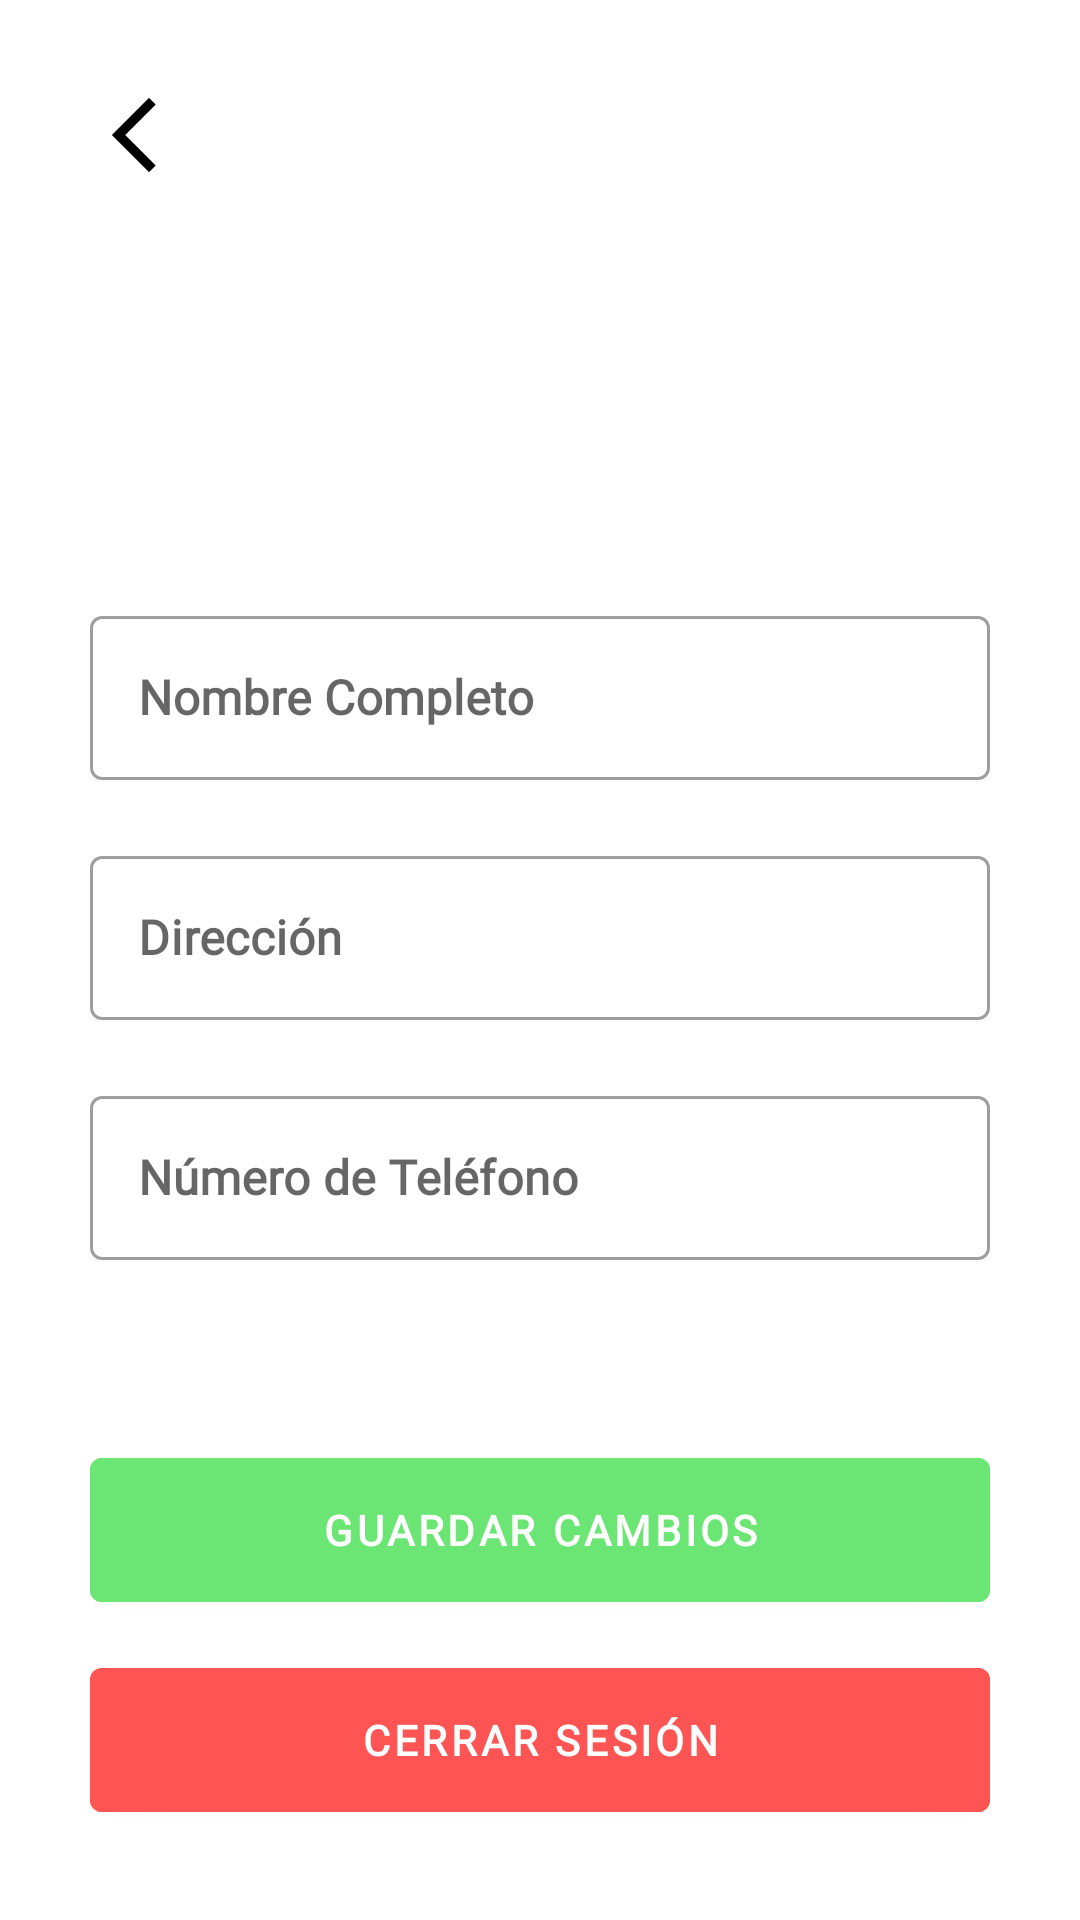

Named icons in this screenshot (1080px×1920px) and their bounding boxes, (x1=x1, y1=y1, x2=x2, y2=y2):
back: (x1=112, y1=98, x2=156, y2=172)
